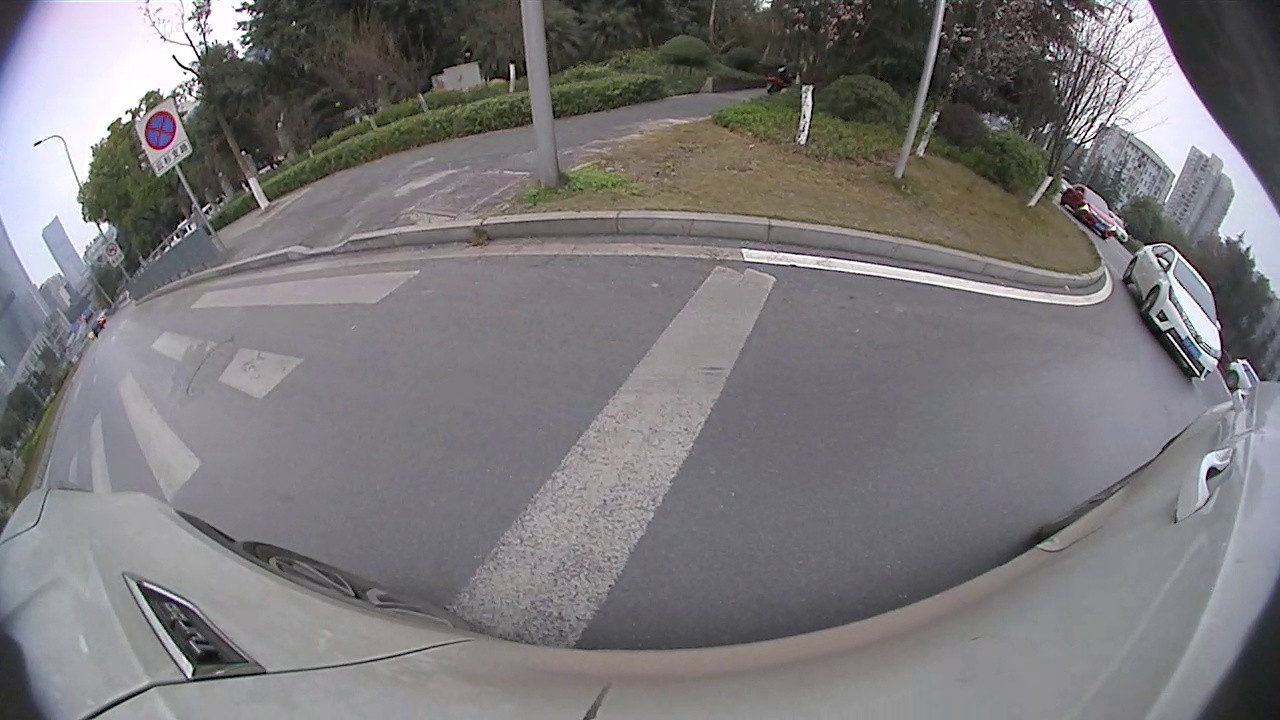bus: (757, 134, 903, 209), (677, 138, 720, 190)
car: (1031, 247, 1279, 452), (887, 150, 1086, 266), (585, 141, 693, 221), (723, 154, 836, 217), (515, 159, 576, 202)
front: (1071, 294, 1161, 392), (891, 195, 907, 226), (722, 180, 732, 200)
rear: (992, 230, 1024, 267), (749, 186, 762, 209)
